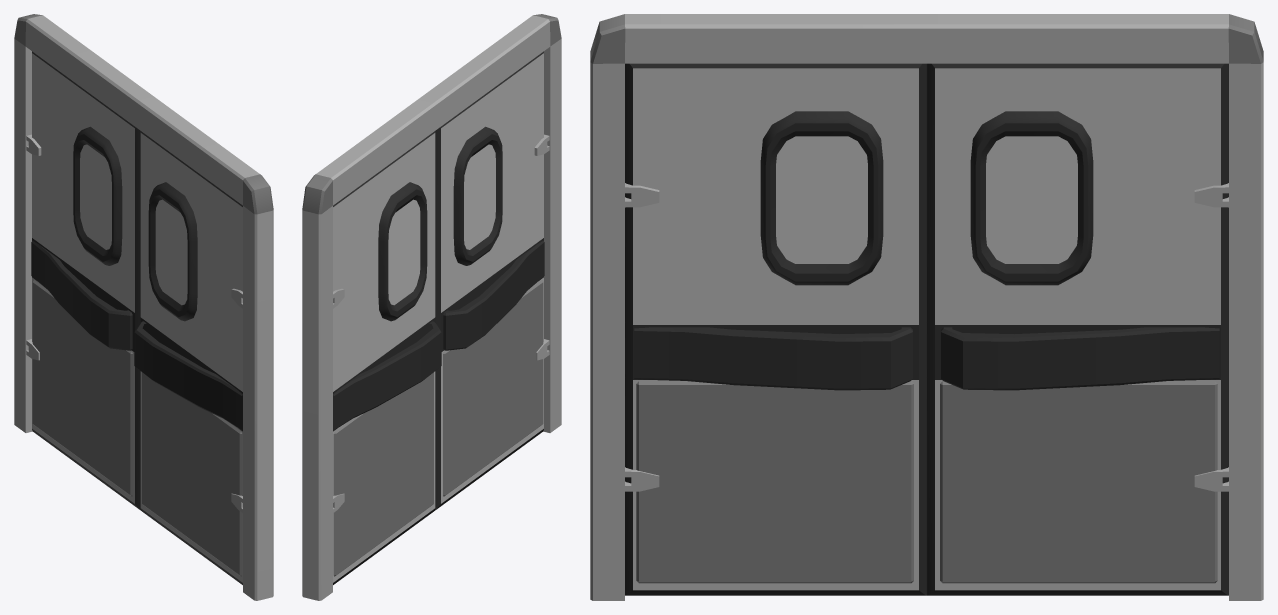
File: Doors.fbx
3 renders of one model, left to right at view 1: azimuth 30°, elevation 25°; view 2: azimuth 150°, elevation 25°; view 3: azimuth 270°, elevation 25°, orthographic. The views are drawn at different scales.
Visible parts, largest first — view 1: group2_polySurface48; view 2: group2_polySurface48; view 3: group2_polySurface48.
Part boxes in pixels (x1,y1,x2,y2): group2_polySurface48: [14, 14, 273, 600]; group2_polySurface48: [302, 14, 561, 600]; group2_polySurface48: [590, 14, 1263, 600].
Bounding box in the file's own units: 1.28 × 10.94 × 11.61.
1 material, 1 textured.
